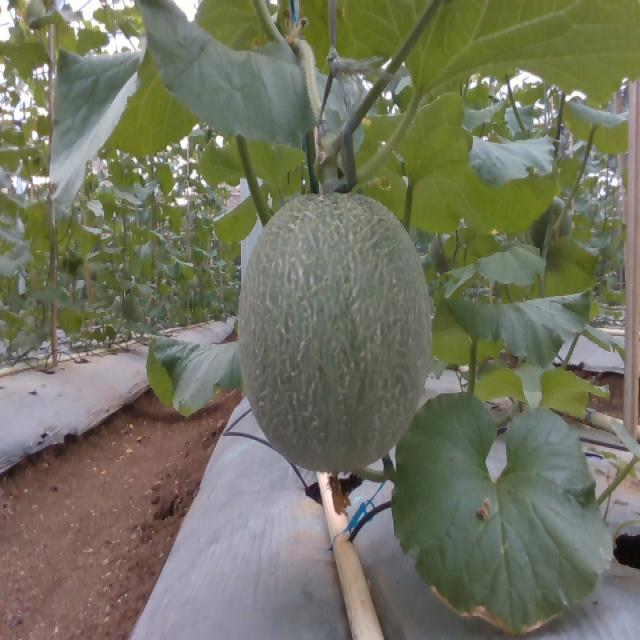melon: (239, 193, 431, 473)
